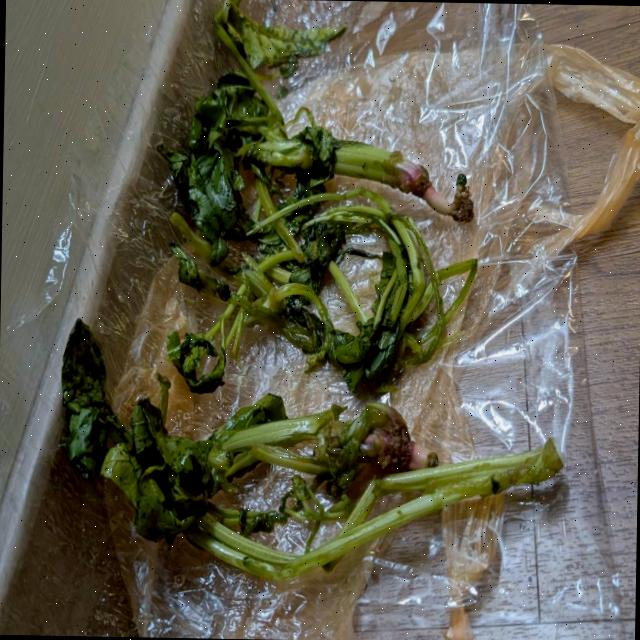rotten spinach: (24, 3, 579, 611), (126, 371, 568, 640), (120, 178, 478, 404), (141, 114, 481, 234), (44, 296, 176, 568), (198, 3, 369, 116)
